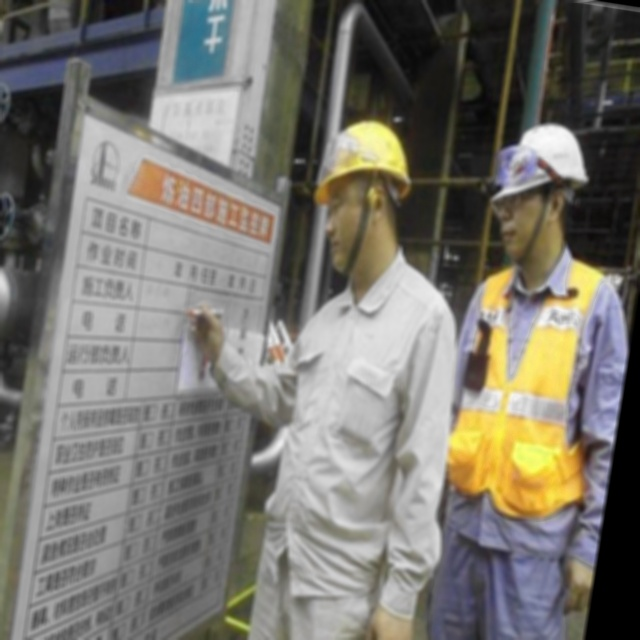Con_Chaleco: (441, 249, 630, 524)
Sin_Chaleco: (258, 261, 470, 583)
